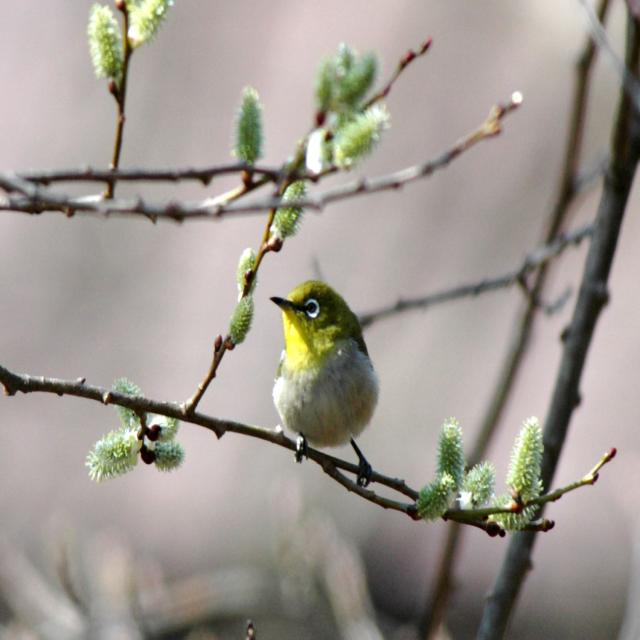bird: (265, 284, 381, 486)
